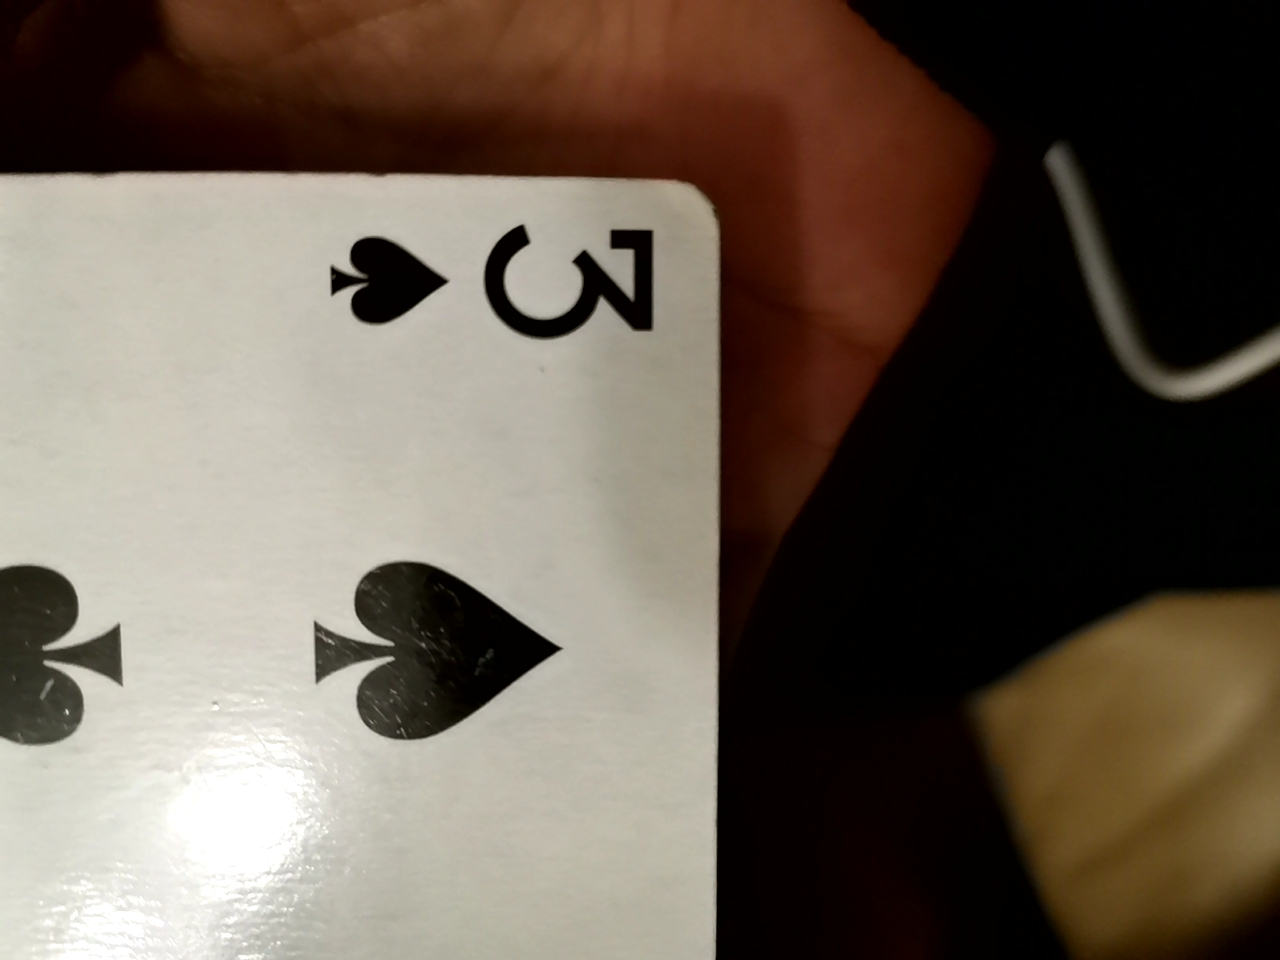ht 3: (2, 130, 737, 955)
